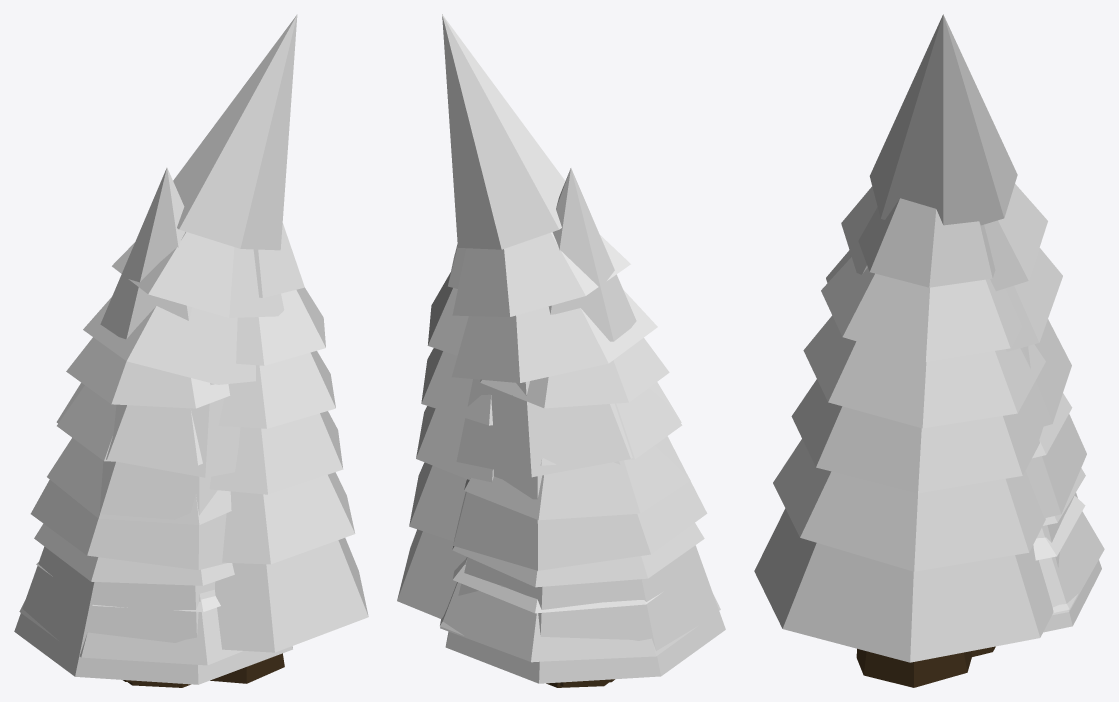
Rendered from Christmas_Tree.fbx.
The picture shows the model from 3 angles, left to right: view 1: azimuth 30°, elevation 25°; view 2: azimuth 150°, elevation 25°; view 3: azimuth 270°, elevation 25°; orthographic projection. The views are drawn at different scales.
Visible parts, largest first — view 1: Tree_02, Tree_03, Tree_05; view 2: Tree_02, Tree_05, Tree_03, Tree_01; view 3: Tree_03, Tree_02, Tree_05, Tree_01.
Part boxes in pixels (x1,y1,x2,y2): Tree_02: [14, 14, 297, 687]; Tree_03: [209, 223, 368, 683]; Tree_05: [19, 167, 242, 665]; Tree_02: [442, 14, 725, 686]; Tree_05: [440, 168, 720, 661]; Tree_03: [397, 244, 493, 618]; Tree_01: [440, 559, 662, 687]; Tree_03: [754, 198, 1053, 687]; Tree_02: [826, 14, 1101, 632]; Tree_05: [1032, 393, 1104, 615]; Tree_01: [971, 495, 1085, 656].
Bounding box in the file's own units: 104 × 207 × 93.99.
Materials: 1 (1 with a texture image).
